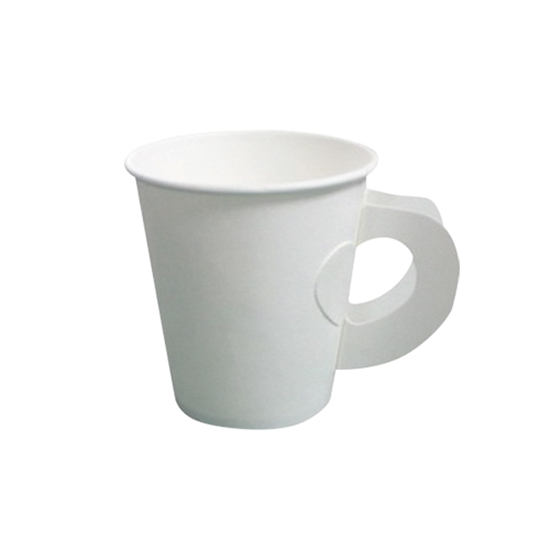PaperCup: (122, 124, 462, 432)
